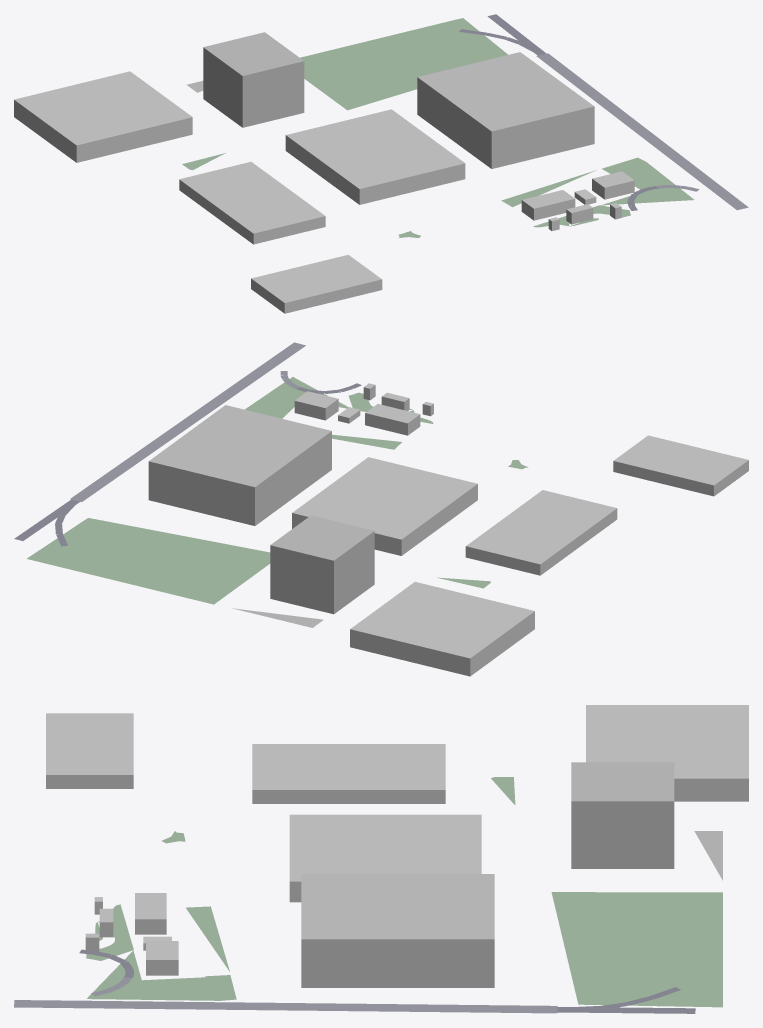
The model's file is 119_88_mid.glb.
3 renders of one model, top to bottom at view 1: azimuth 30°, elevation 25°; view 2: azimuth 150°, elevation 25°; view 3: azimuth 270°, elevation 25°, orthographic. The views are drawn at different scales.
Bounding box in the file's own units: 545 × 59.15 × 577.
